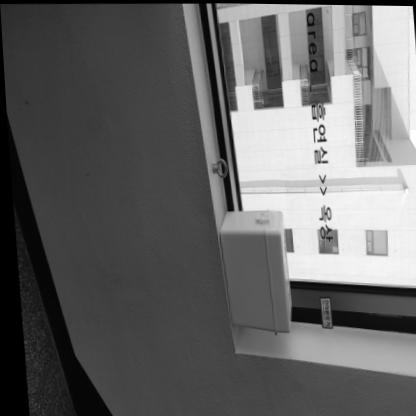DDL: (214, 208, 289, 332)
